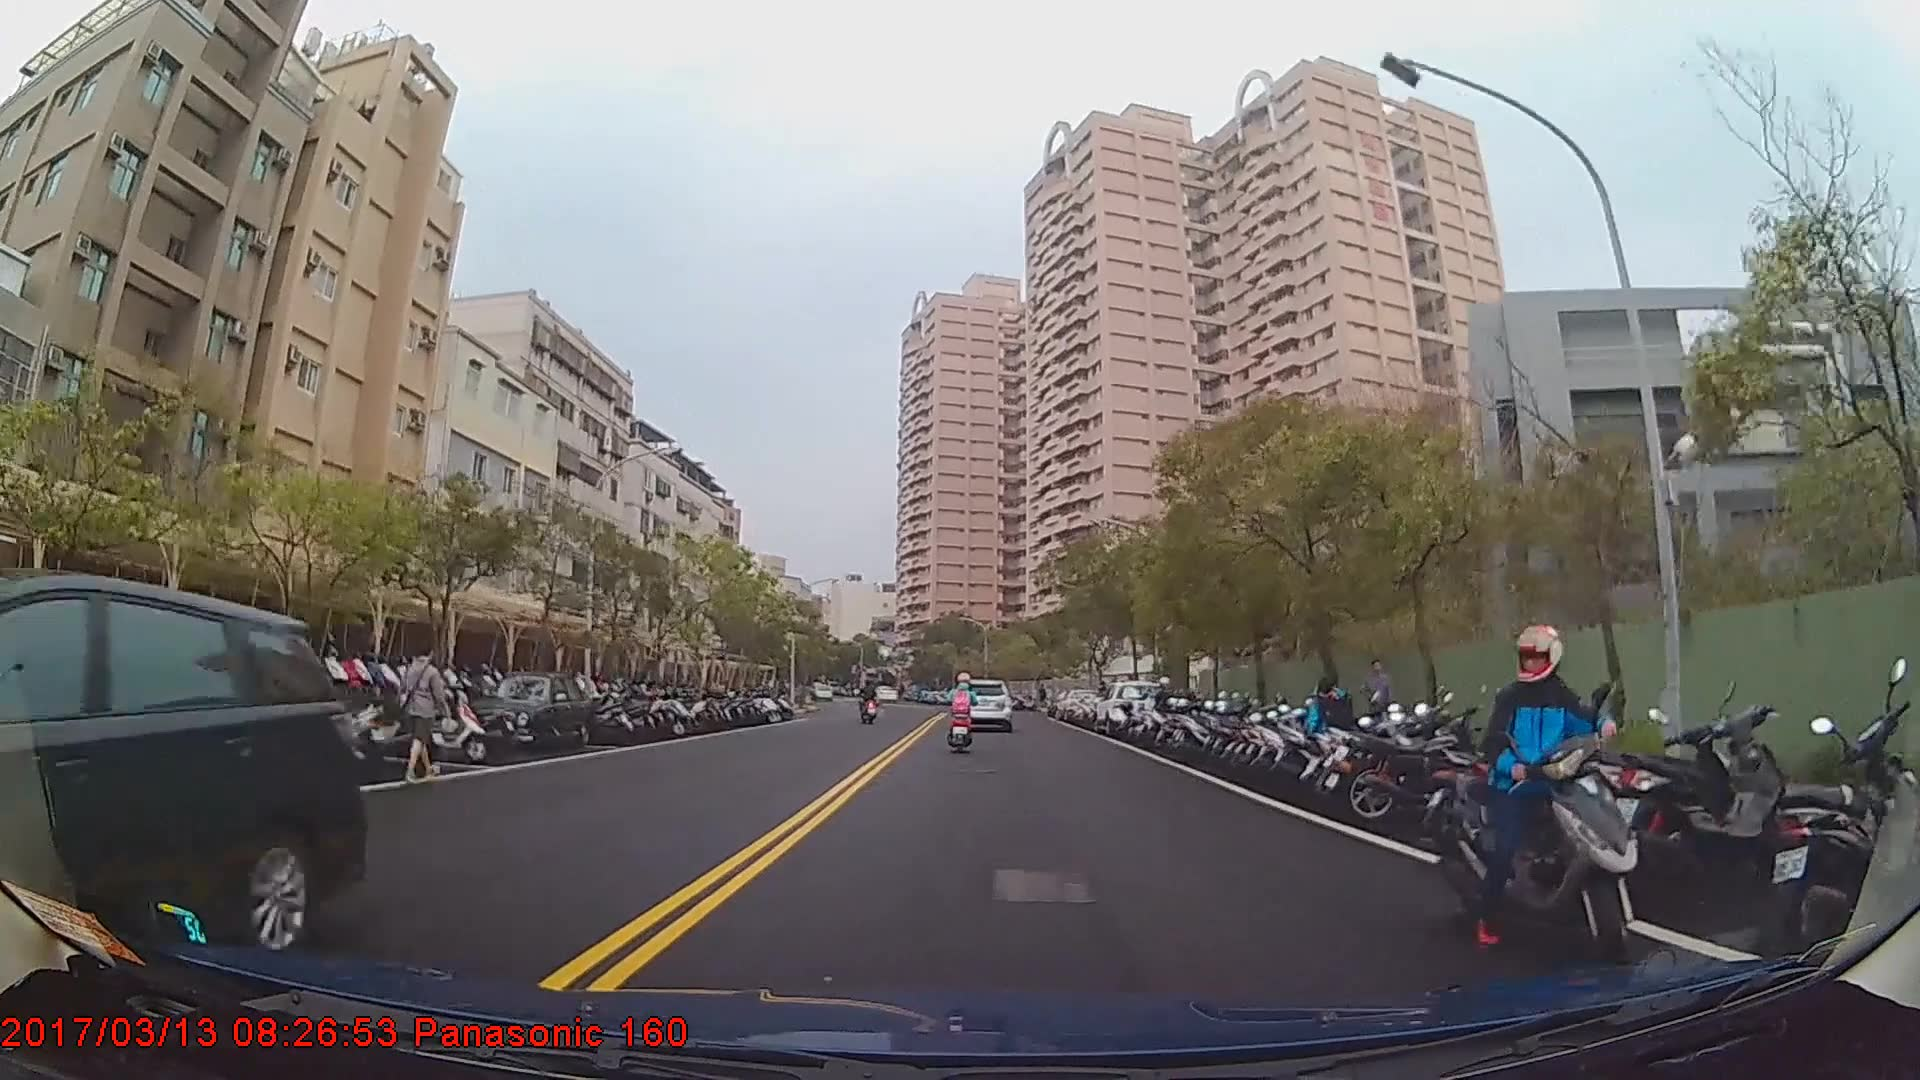pedestrian: (394, 635, 456, 785), (1303, 675, 1356, 784), (1358, 656, 1394, 754)
rider: (1437, 625, 1609, 976), (947, 673, 980, 750), (859, 680, 880, 724)
vehicle: (0, 569, 364, 975), (463, 669, 593, 755), (1095, 678, 1173, 737), (956, 675, 1012, 726)
